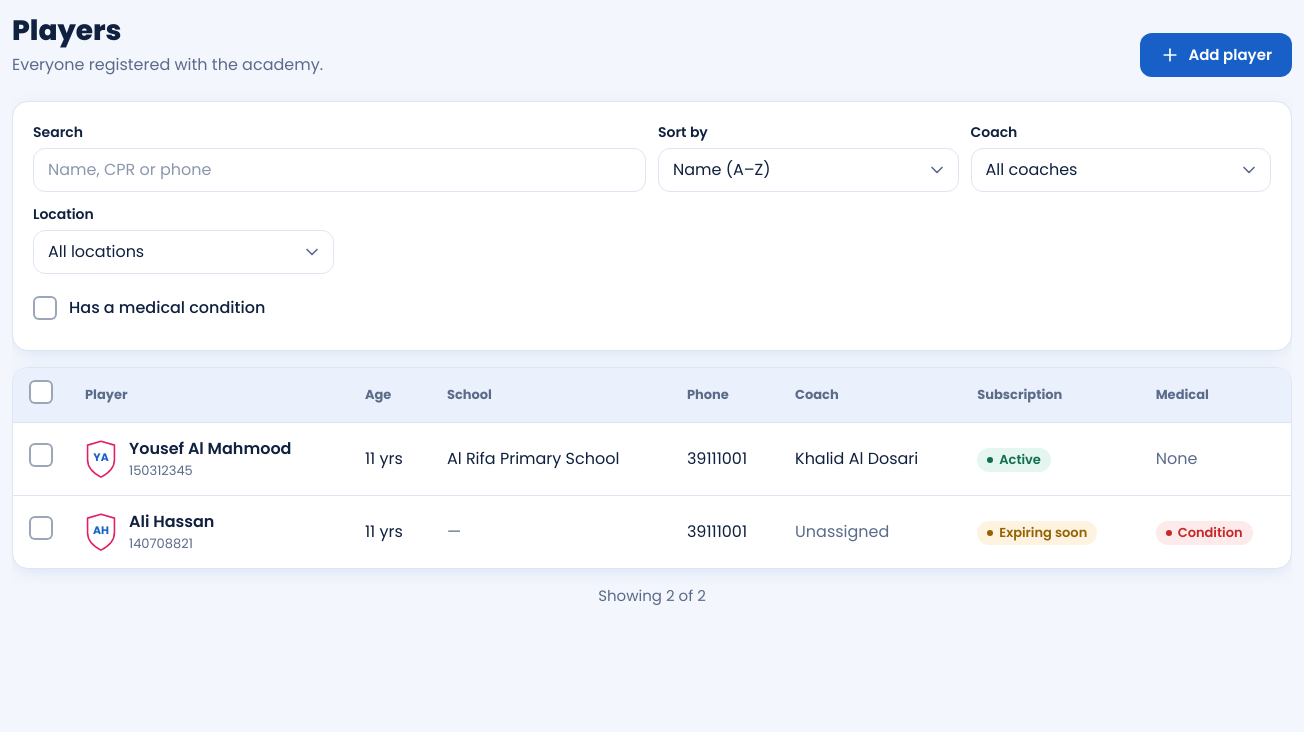
Test: PlayersPage › as an admin › bulk assignment › drops the selection when the filters change
Click the checkbox named "Select Yousef Al Mahmood": (41, 455) left=19, top=433, right=63, bottom=477
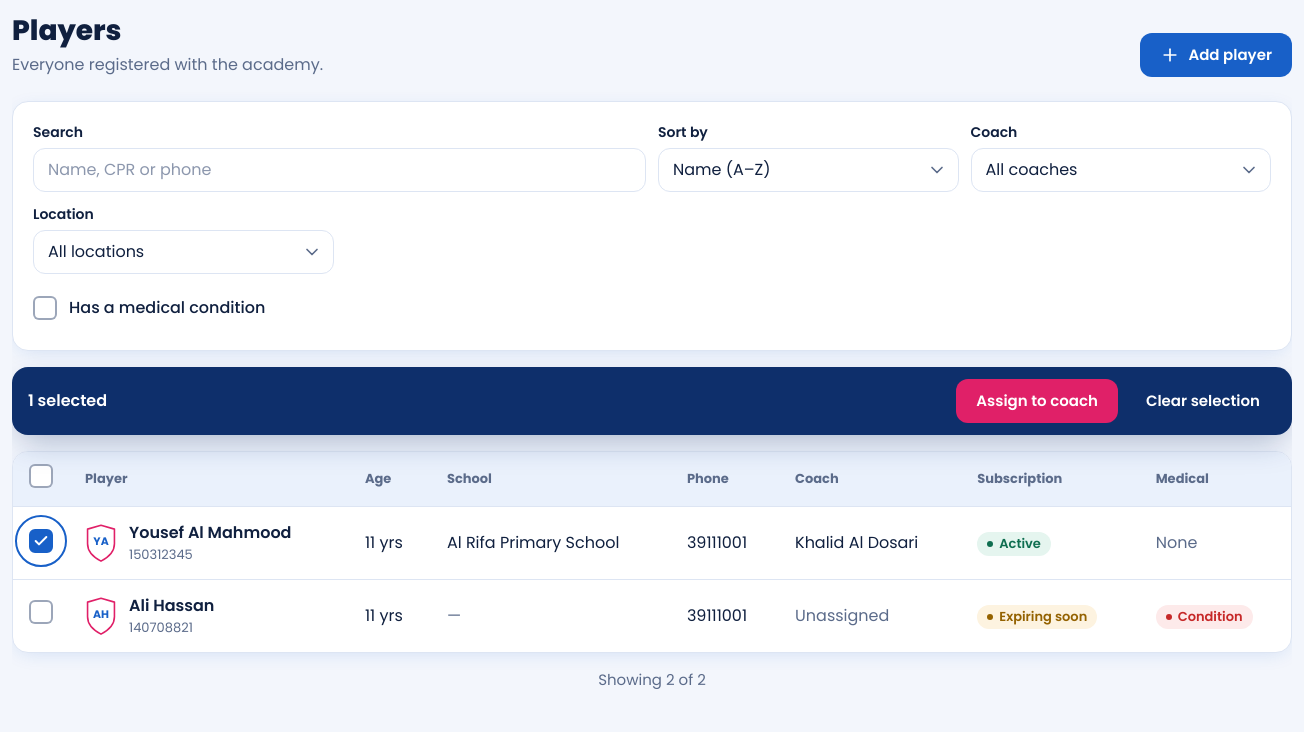
Click the checkbox named "Select Ali Hassan": (41, 612) left=19, top=590, right=63, bottom=634
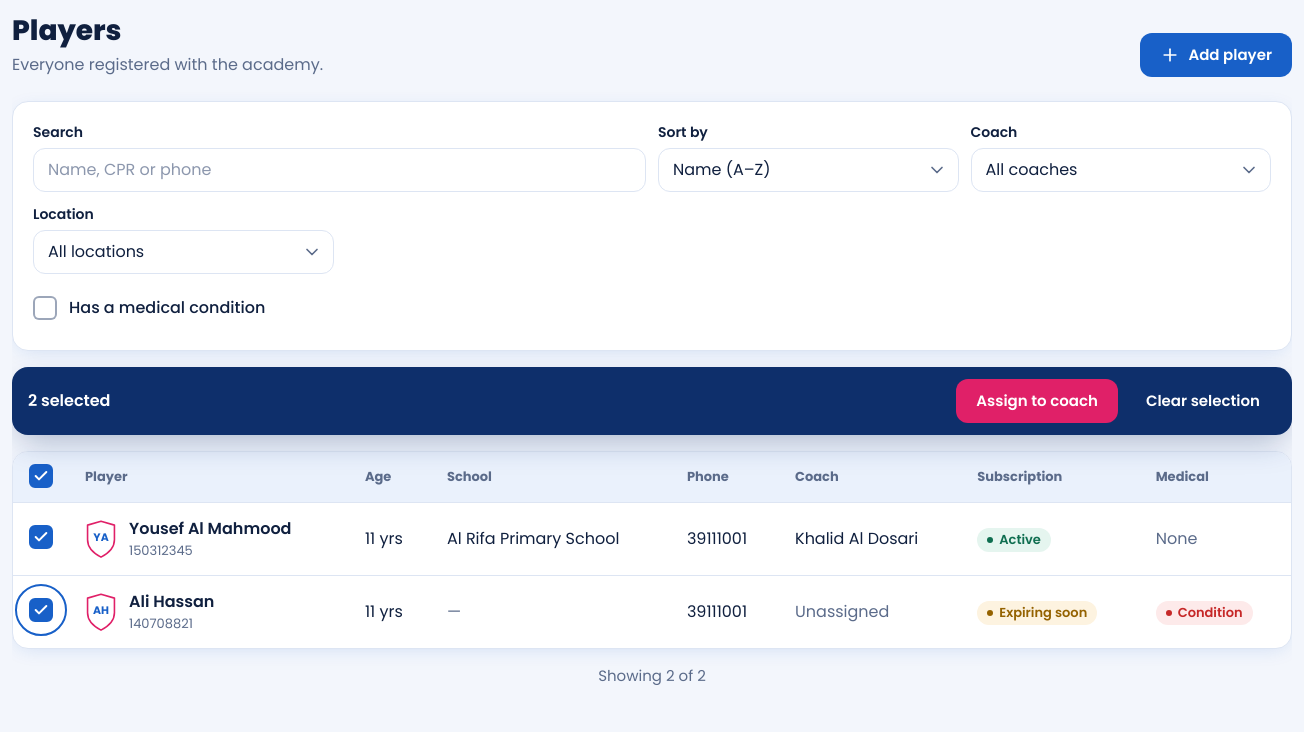
Now the text "2 selected" is shown, box left=24, top=389, right=110, bottom=413
Select "Sara Al Khalifa" in the dropdown labelled "Coach": (1121, 170) left=970, top=148, right=1271, bottom=192
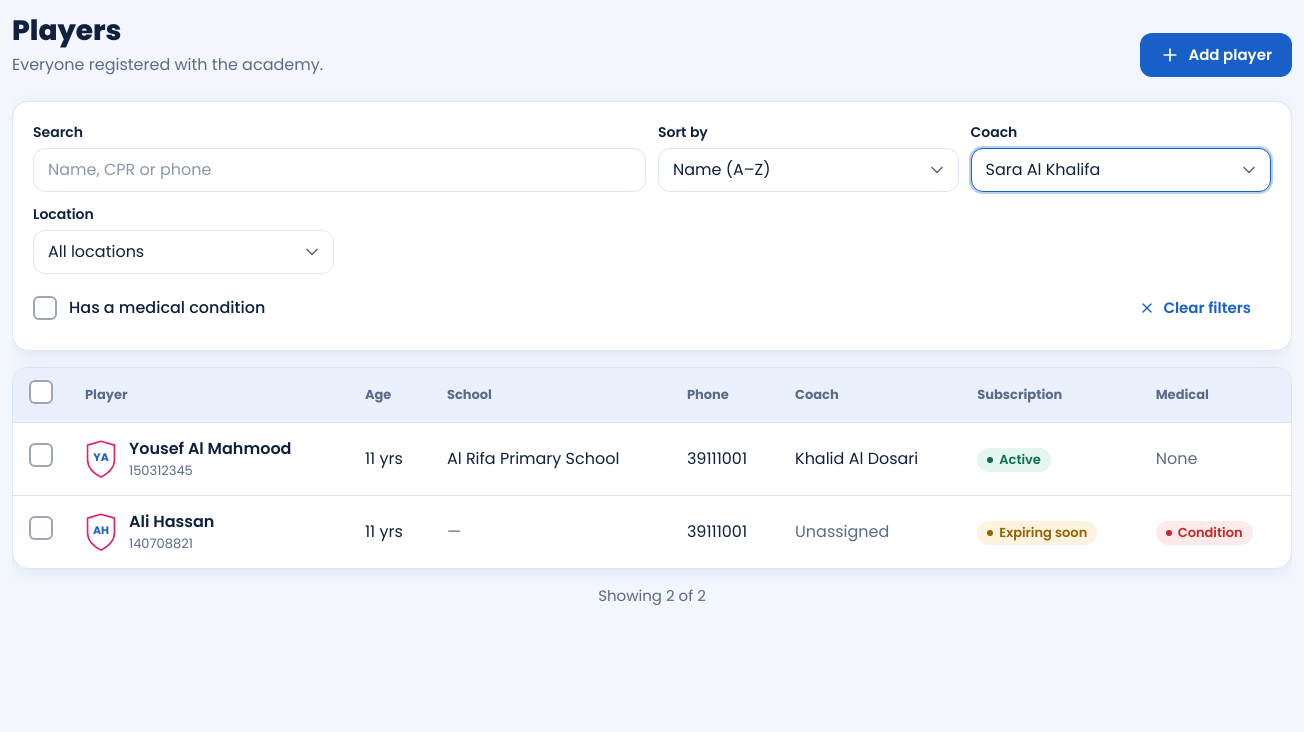
Now the text "2 selected" is gone
